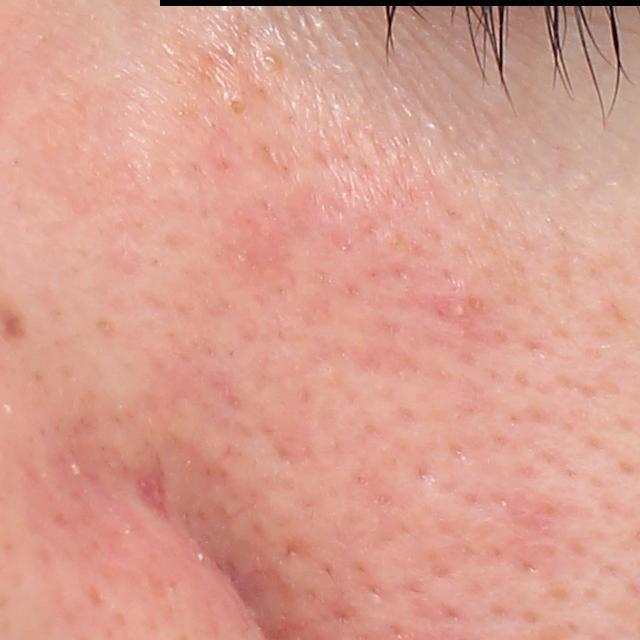comedo: (228, 94, 249, 118)
